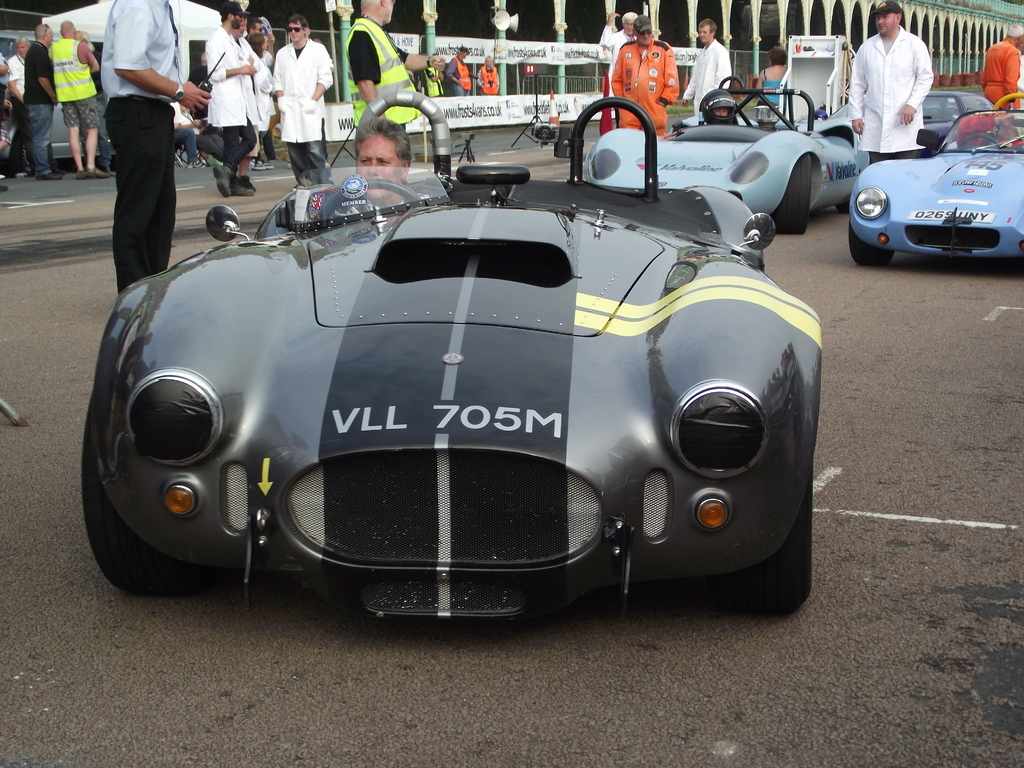Car: (78, 87, 819, 619), (583, 75, 870, 235), (849, 106, 1024, 268), (831, 90, 999, 156)
